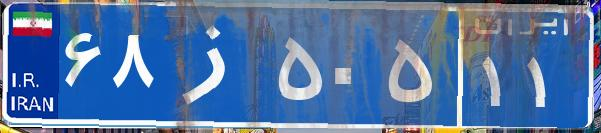0: (330, 28, 385, 110)
1: (475, 38, 525, 113), (525, 38, 570, 115)
5: (385, 28, 445, 110), (273, 28, 330, 110)
6: (57, 26, 110, 107)
8: (110, 28, 158, 105)
ز: (158, 15, 273, 115)
